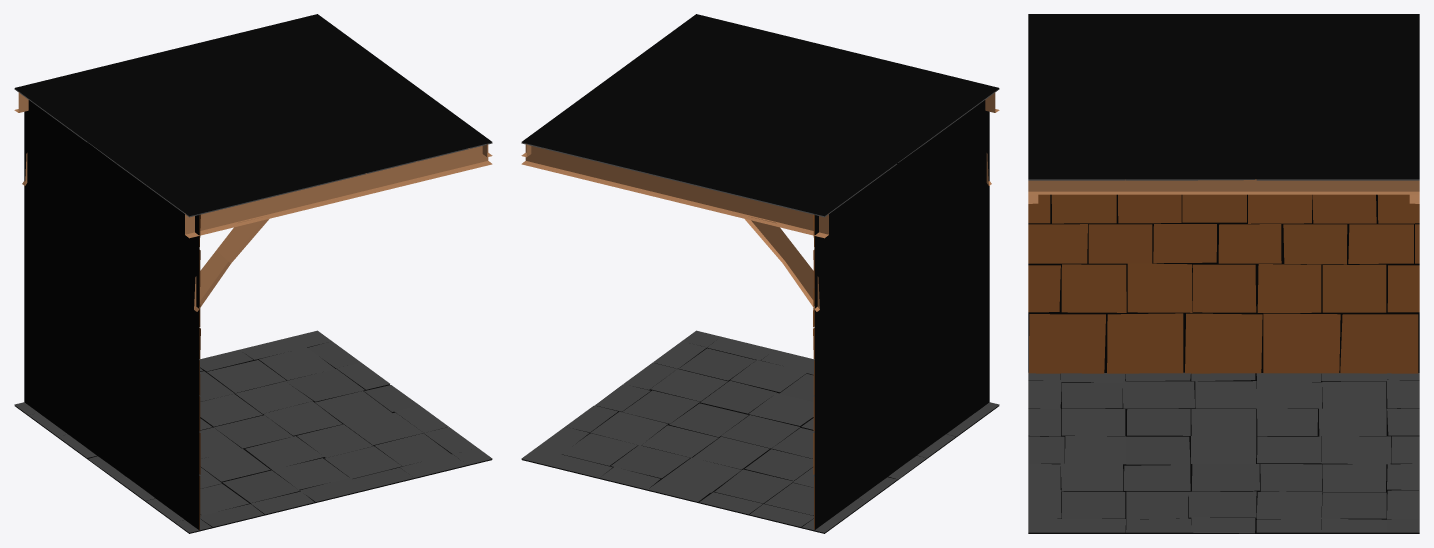
The model's file is wall_4.glb.
3 renders of one model, left to right at view 1: azimuth 30°, elevation 25°; view 2: azimuth 150°, elevation 25°; view 3: azimuth 270°, elevation 25°, orthographic. The views are drawn at different scales.
Visible parts, largest first — view 1: wall_4; view 2: wall_4; view 3: wall_4.
Boxes of the visible parts, left/top/right/bottom form: wall_4: left=14, top=14, right=492, bottom=533; wall_4: left=521, top=14, right=999, bottom=533; wall_4: left=1028, top=14, right=1419, bottom=533.
Bounding box in the file's own units: 3 × 3 × 3.
1 material, 1 textured.
